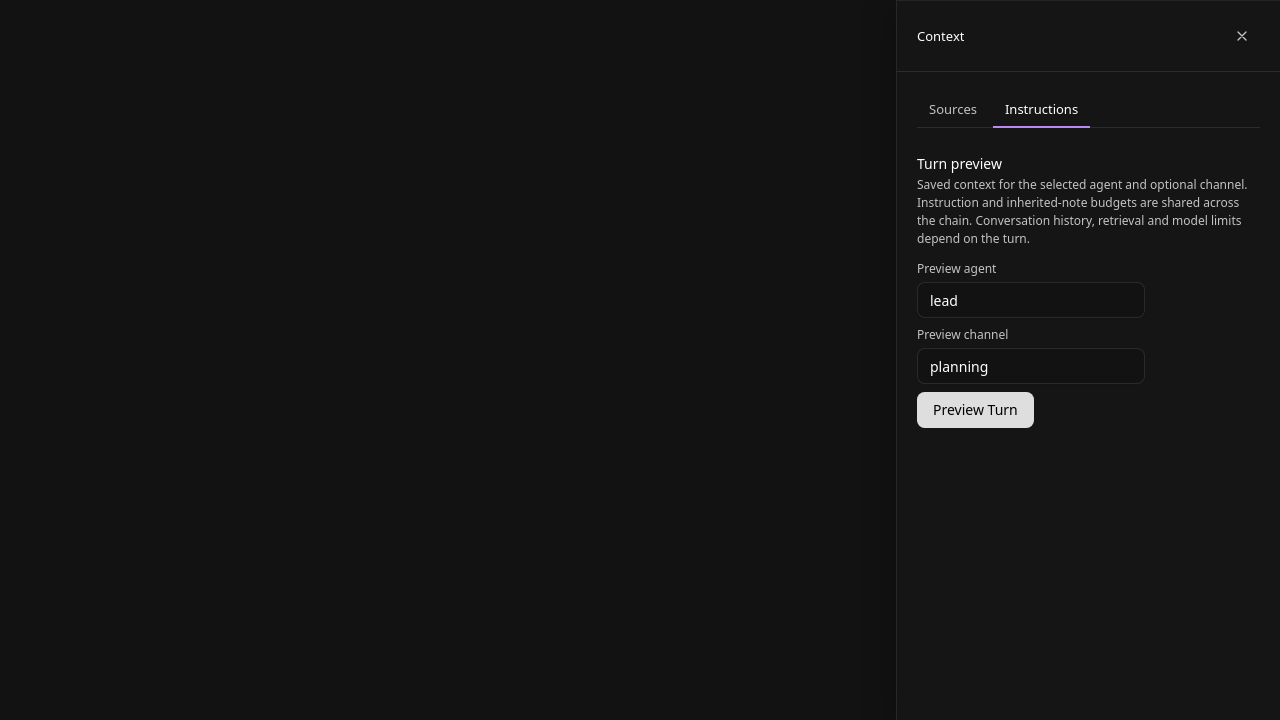
Test case: conversation Instructions uses the real read-confined composer without requesting source lists
Click the button "Preview Turn" at (975, 410), box [917,392,1034,428]
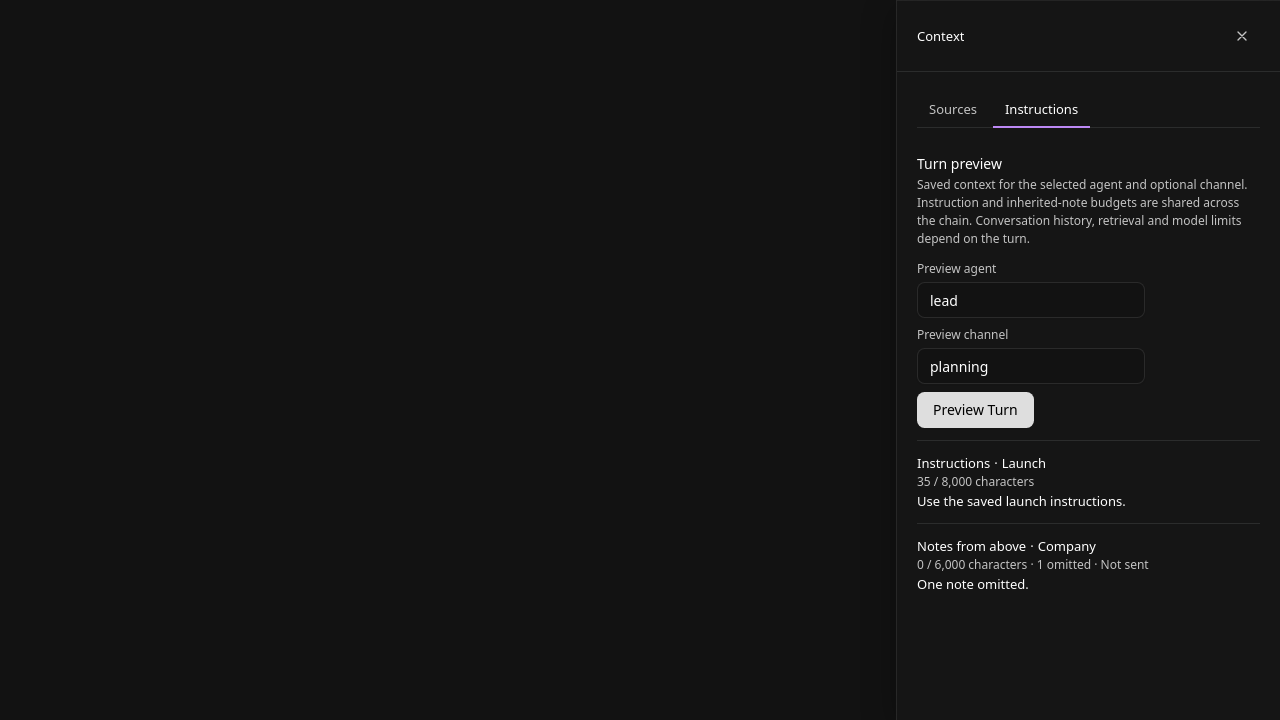
Now the text "Use the saved launch instructions." is shown, box [917,492,1126,510]
Now the text "One note omitted." is shown, box [917,575,1029,593]
